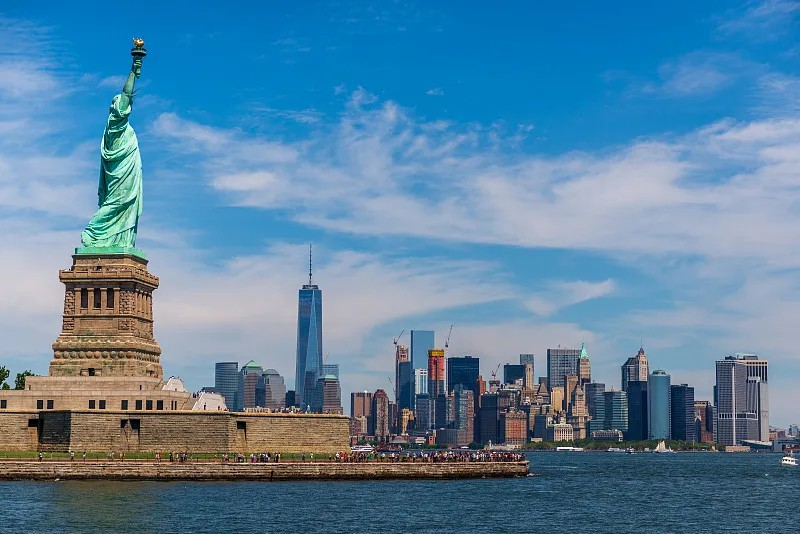SL: (47, 37, 164, 378)
